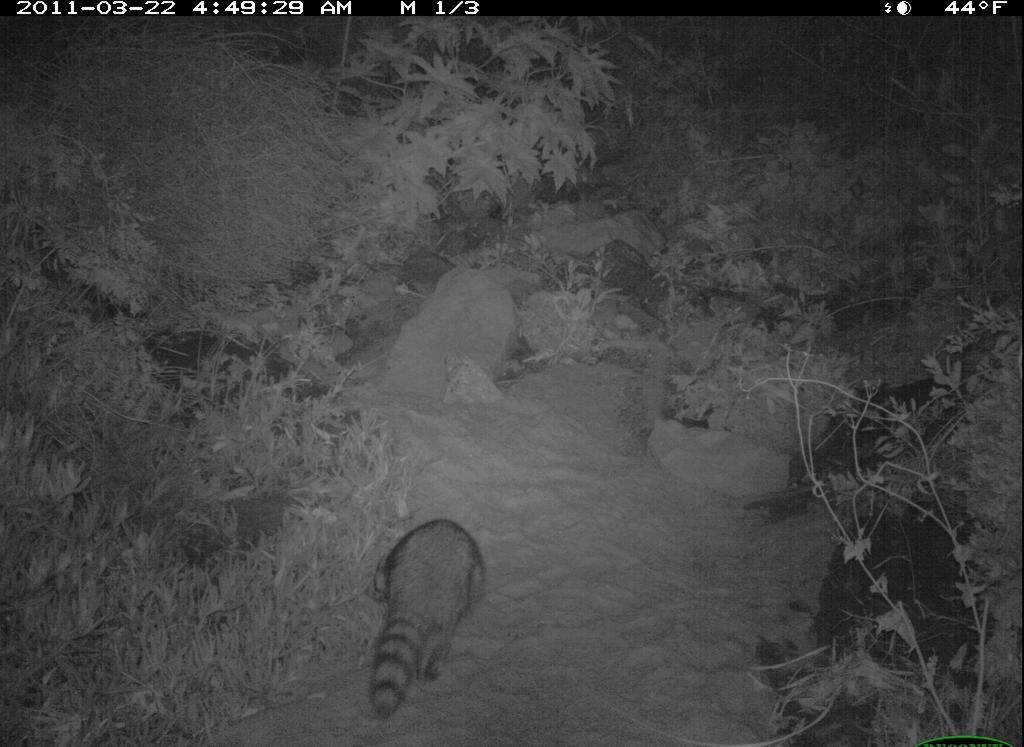raccoon: (363, 496, 500, 729)
